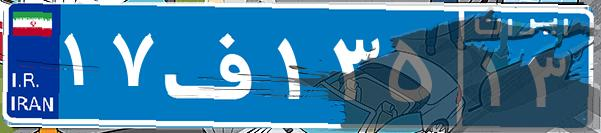1: (273, 28, 330, 110), (57, 26, 110, 107), (475, 38, 525, 113)
3: (330, 28, 385, 110), (525, 38, 570, 115)
5: (385, 28, 445, 110)
7: (110, 28, 158, 105)
ف: (158, 15, 273, 115)
